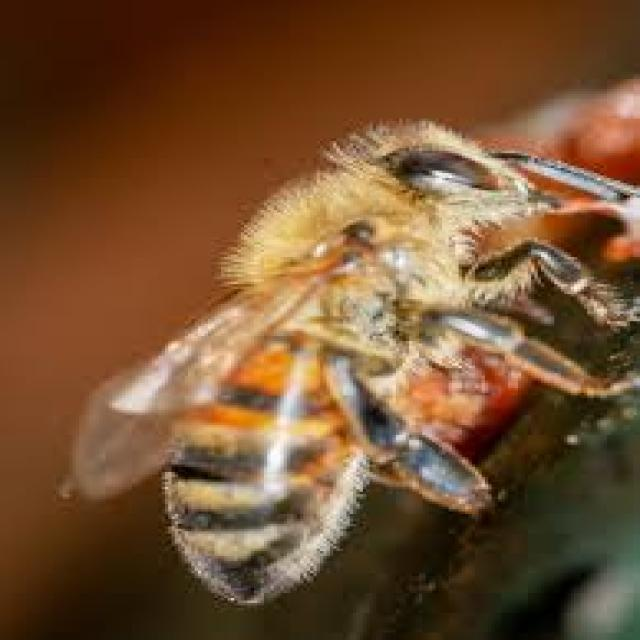Bees: (63, 119, 640, 606)
